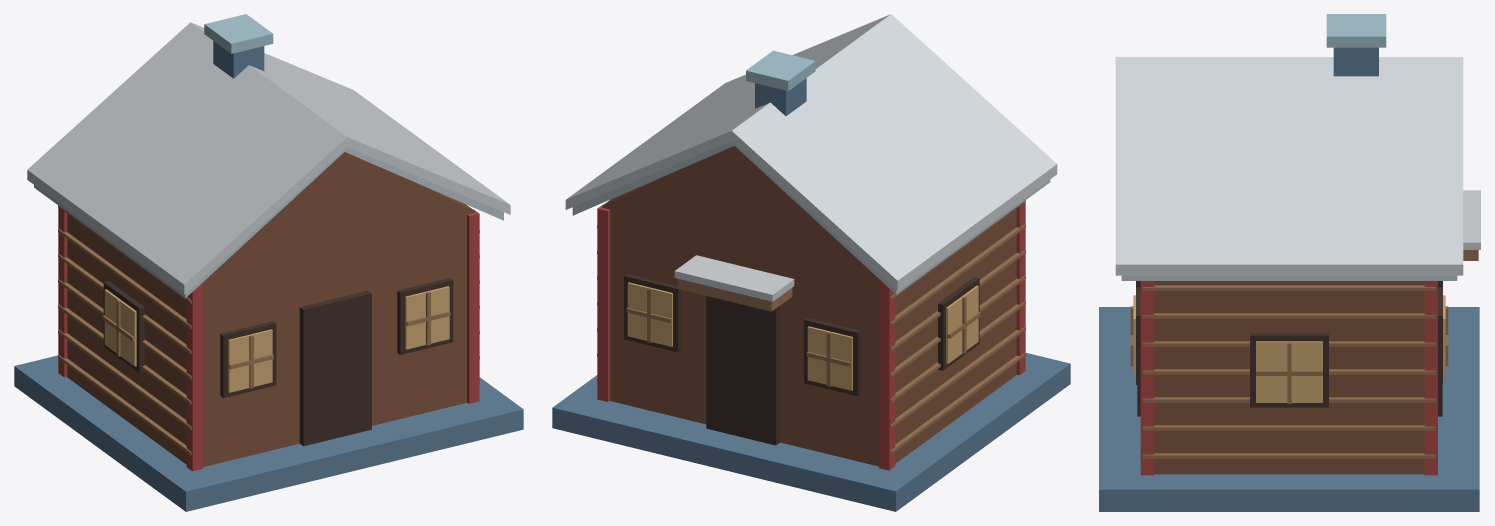
The model's file is Frosty_Cabin_Standard.glb.
3 views of the same model, side by side, from view 1: azimuth 30°, elevation 25°; view 2: azimuth 150°, elevation 25°; view 3: azimuth 270°, elevation 25° (orthographic). The views are drawn at different scales.
Visible parts, largest first — view 1: Frosty_Cabin_Standard; view 2: Frosty_Cabin_Standard; view 3: Frosty_Cabin_Standard.
Part boxes in pixels (x1,y1,x2,y2): Frosty_Cabin_Standard: (14, 14, 523, 511); Frosty_Cabin_Standard: (552, 14, 1070, 511); Frosty_Cabin_Standard: (1099, 14, 1480, 511).
Size of the model in its own units: 4.2 by 4.24 by 3.71.
